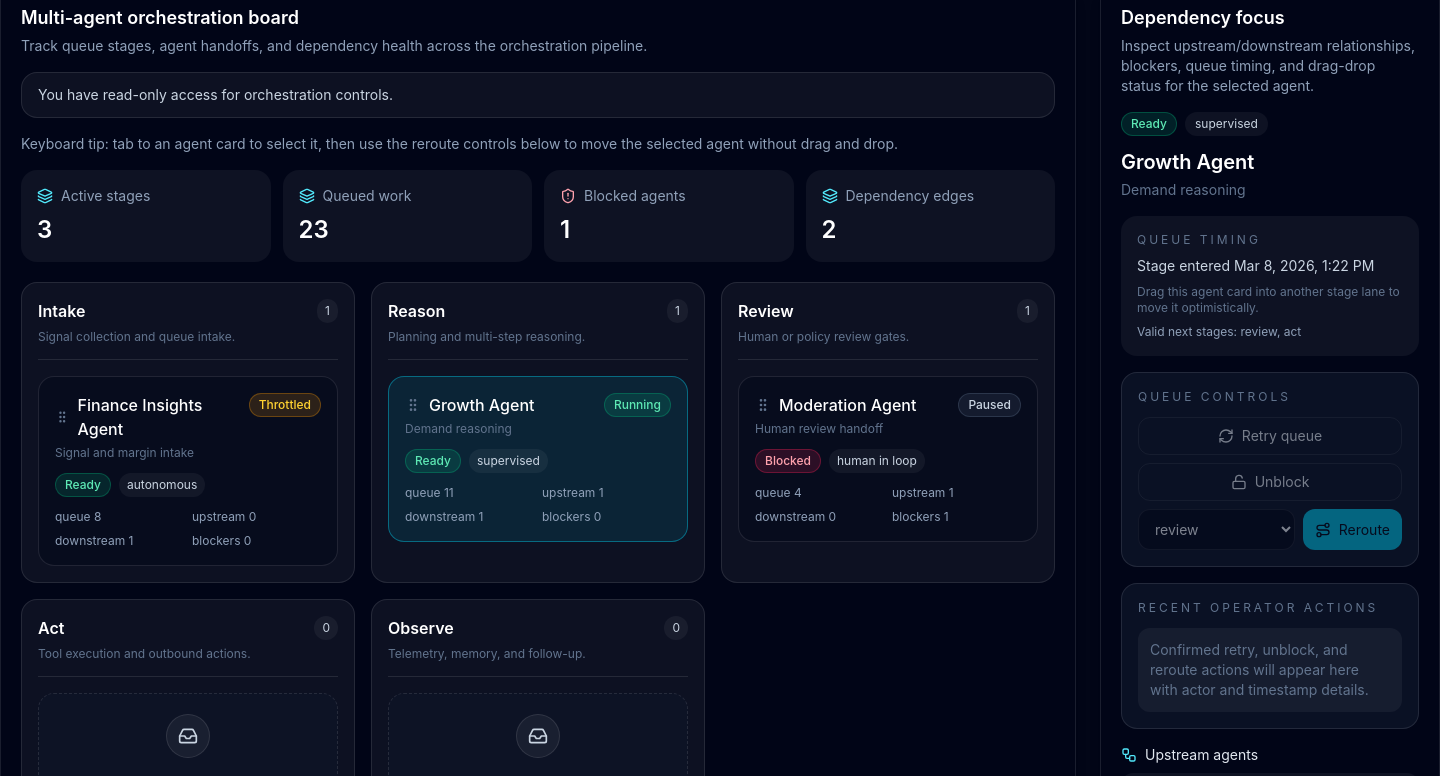
Test case: AgentOrchestrationBoard › supports read-only inspection of orchestration state and blockers
The width and height of the screenshot is (1440, 776).
Expected: the text "You have read-only access for orchestration controls." is shown, [21, 72, 1055, 118]
Expected: the button "Retry queue" is disabled, [1138, 417, 1402, 455]
Click the button "Moderation Agent".
click(888, 459)  # box [738, 376, 1038, 542]
(page scrolled)
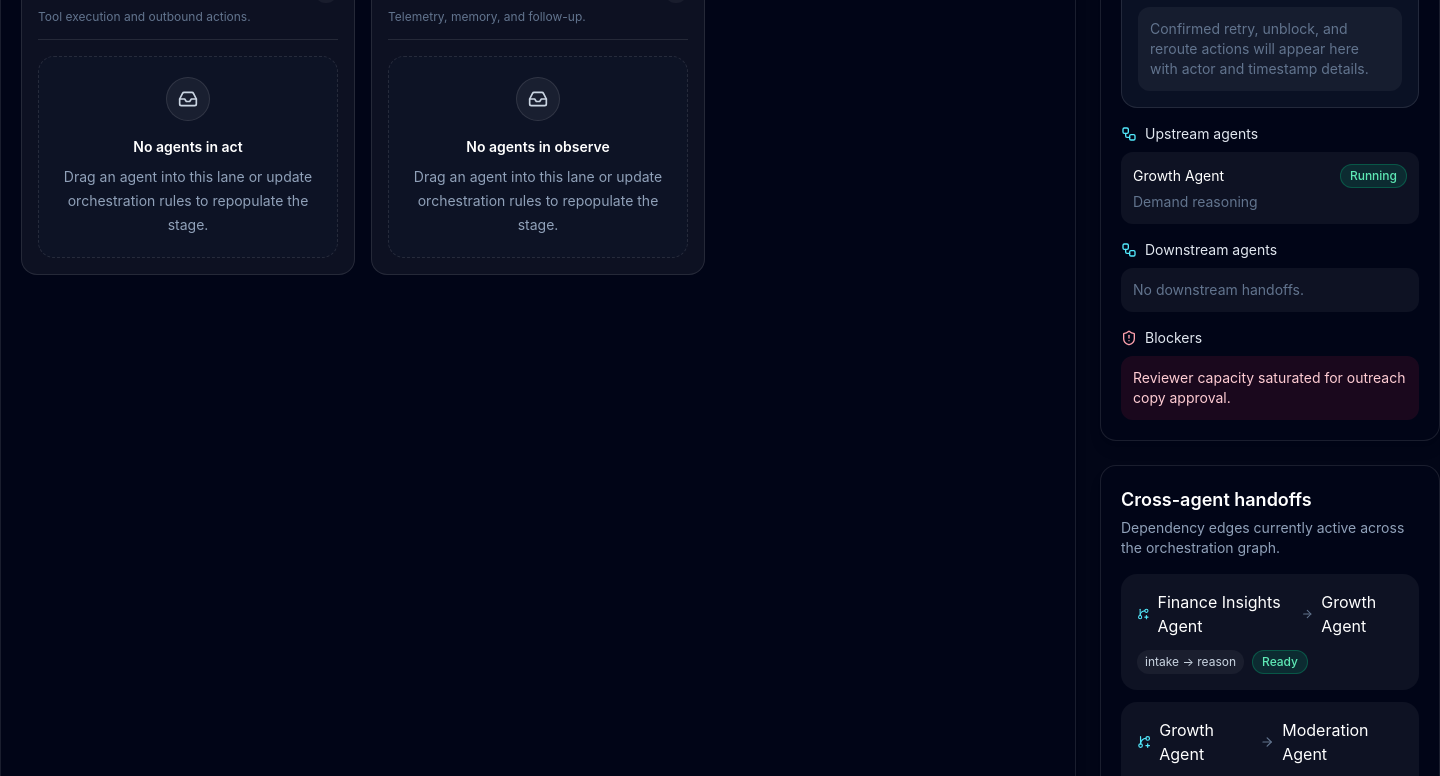
Expected: the text "Reviewer capacity saturated for outreach copy approval." is shown, [1121, 356, 1419, 420]
